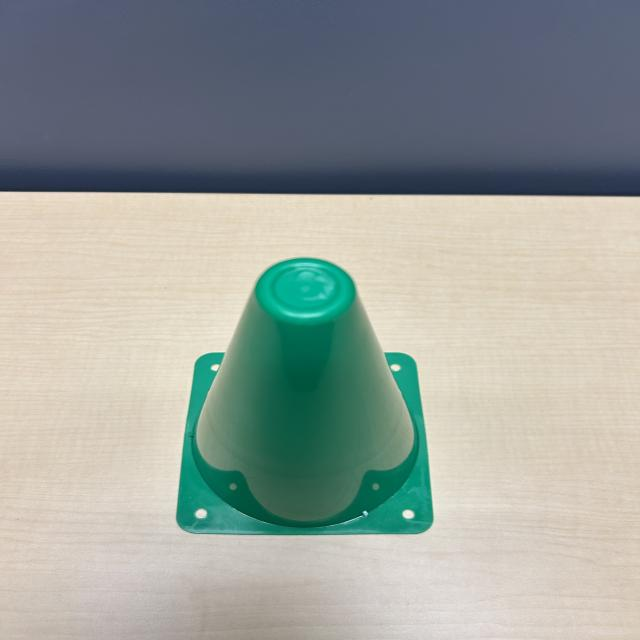green cone: (167, 248, 445, 539)
